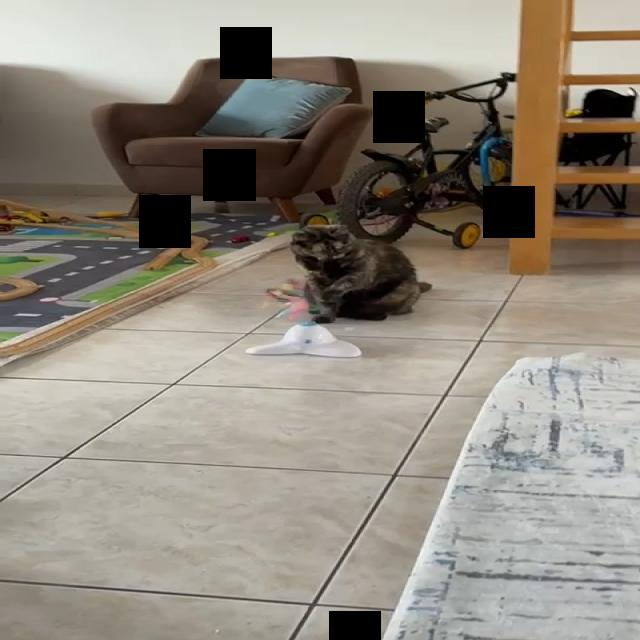authorized: (288, 224, 432, 322)
